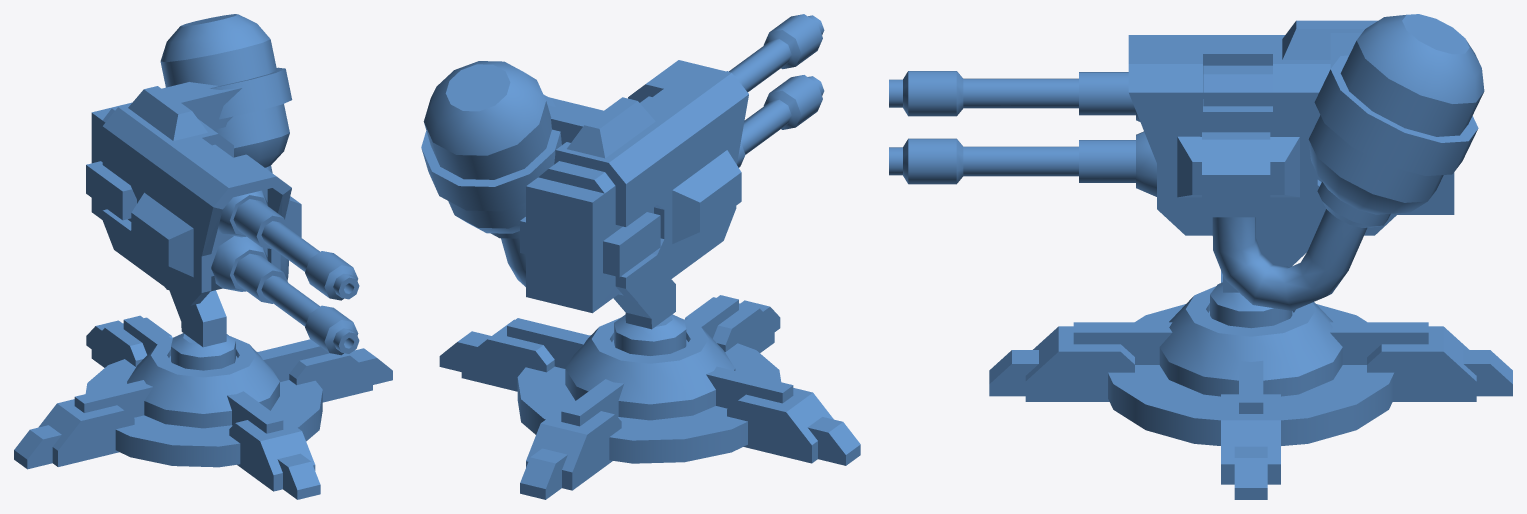
File: auto_turret_machine_gun_level_2.fbx
3 renders of one model, left to right at view 1: azimuth 30°, elevation 25°; view 2: azimuth 150°, elevation 25°; view 3: azimuth 270°, elevation 25°, orthographic. The views are drawn at different scales.
Parts seen in each view (by area): view 1: main_part, base, pivoting_arm, cannon_2, cannon_1; view 2: main_part, base, pivoting_arm, cannon_1, cannon_2; view 3: main_part, base, cannon_2, cannon_1, pivoting_arm, breech.
Boxes of the visible parts, x1,y1,x2,y2 form: main_part: (86,14,301,305); base: (14,315,392,499); pivoting_arm: (165,287,235,370); cannon_2: (261,275,359,355); cannon_1: (261,221,359,300); main_part: (421,60,748,313); base: (439,295,860,499); pivoting_arm: (613,279,686,355); cannon_1: (729,14,824,91); cannon_2: (741,75,824,154); main_part: (1079,14,1484,310); base: (989,271,1512,499); cannon_2: (889,138,1078,184); cannon_1: (889,71,1078,116); pivoting_arm: (1210,235,1313,328); breech: (1203,65,1272,106).
Bounding box in the file's own units: 242 × 213 × 288.
